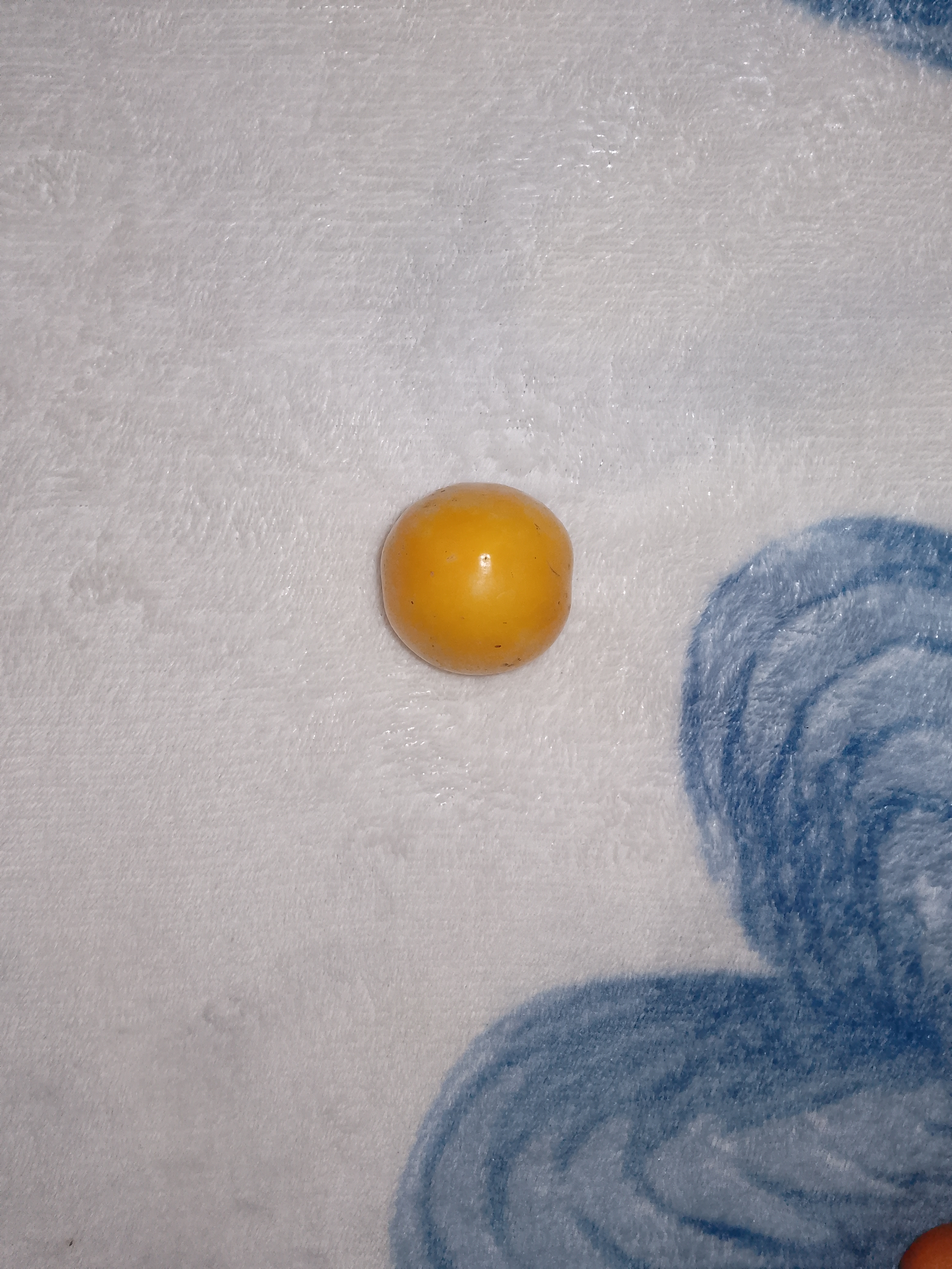Ripe: (324, 477, 587, 693)
